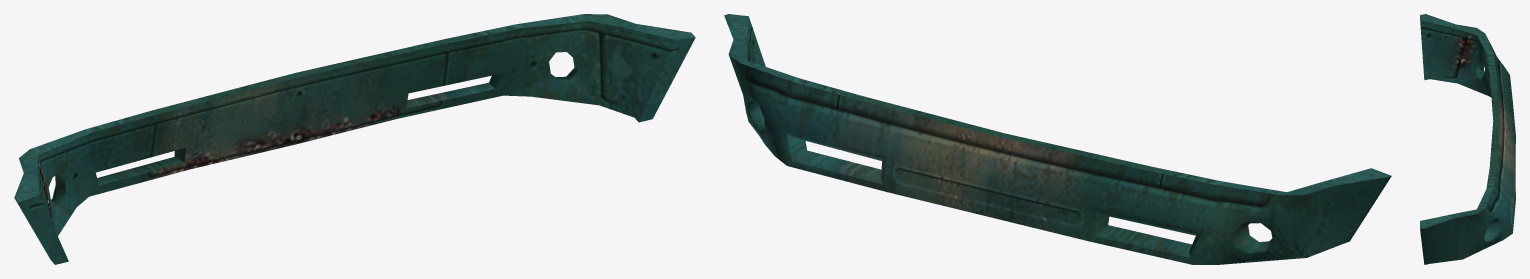
Rendered from part_3_frontspoiler.fbx.
The picture shows the model from 3 angles, left to right: view 1: azimuth 30°, elevation 25°; view 2: azimuth 150°, elevation 25°; view 3: azimuth 270°, elevation 25°; orthographic projection. The views are drawn at different scales.
Visible parts, largest first — view 1: part_3_frontspoiler.001; view 2: part_3_frontspoiler.001; view 3: part_3_frontspoiler.001.
Boxes of the visible parts, bbox=[...] form: part_3_frontspoiler.001: bbox=[14, 14, 695, 264]; part_3_frontspoiler.001: bbox=[724, 14, 1391, 264]; part_3_frontspoiler.001: bbox=[1420, 14, 1515, 264].
Bounding box in the file's own units: 146 × 15.9 × 27.59.
